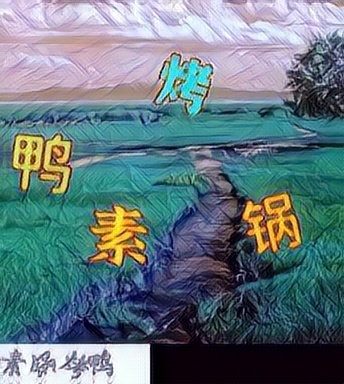B9F8: (241, 190, 306, 254)
BFBE: (151, 52, 216, 116)
CBD8: (85, 202, 150, 266)
D1BC: (12, 132, 77, 196)
